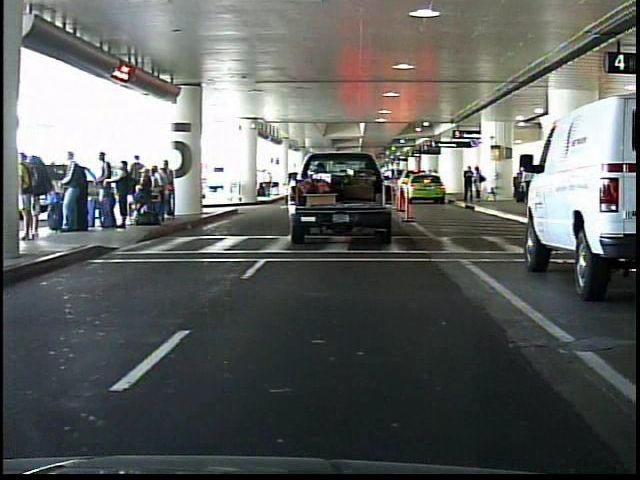person: (473, 165, 487, 203), (462, 165, 474, 203)
